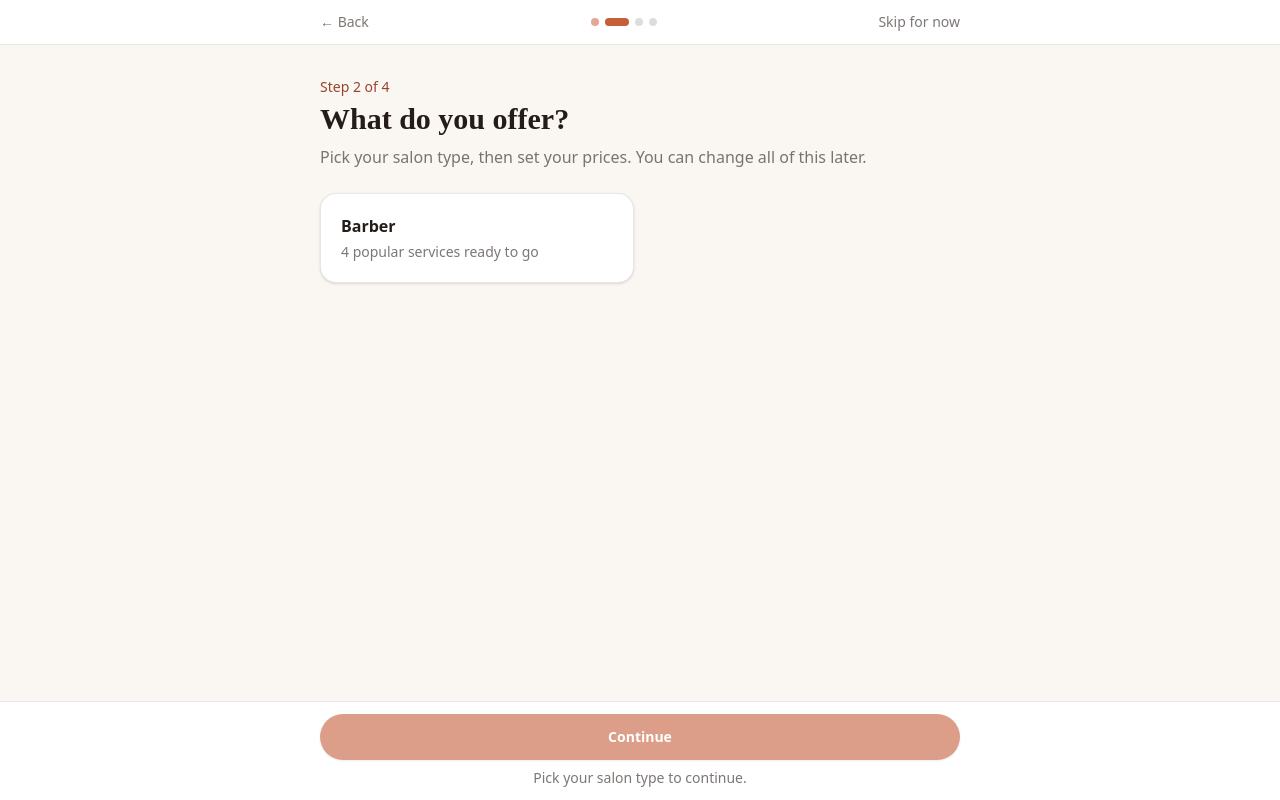
Test: StepServices › highlights only the row a 422 blames, translating the posted index back through the full row list
Step 1. Click the button "Barber 4 popular services ready to go" → coordinates (368, 226), box [320,193,634,283]
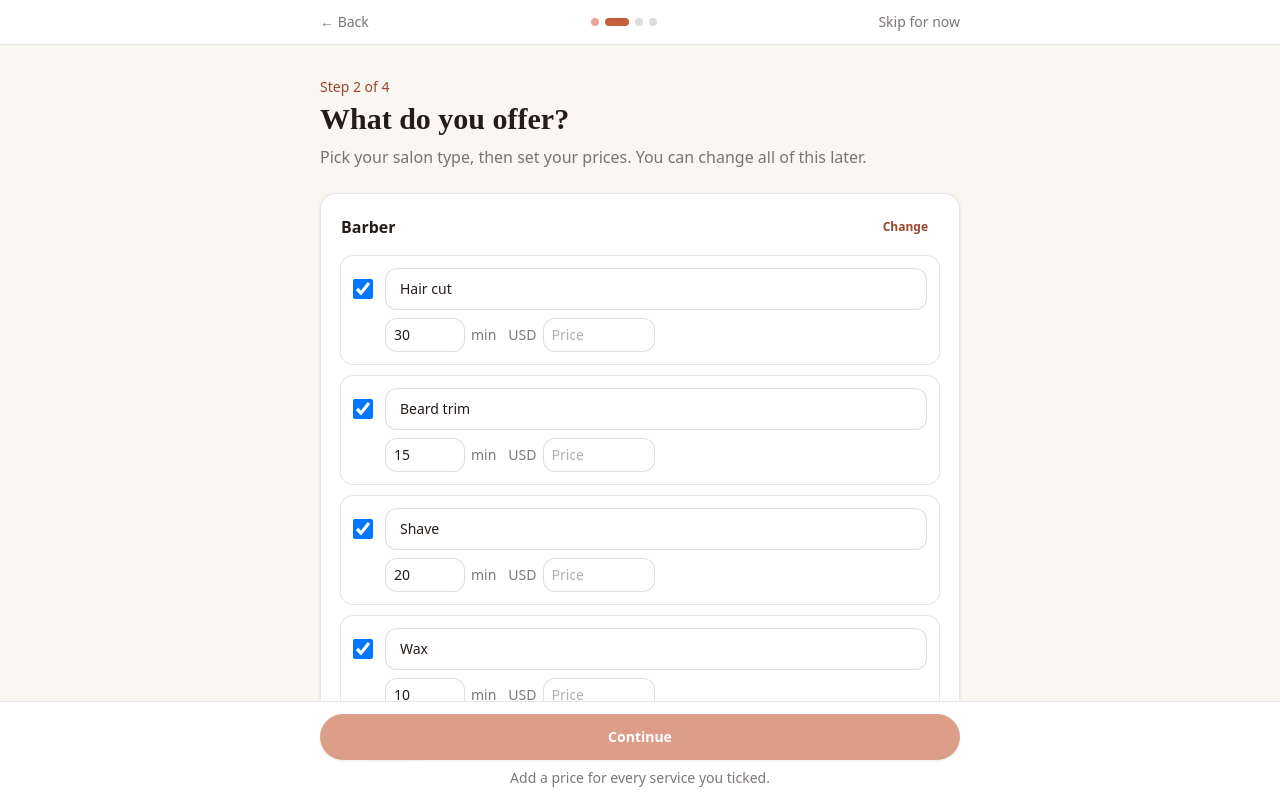
Step 2. Click the 2nd checkbox → coordinates (363, 409), box [353,399,373,419]
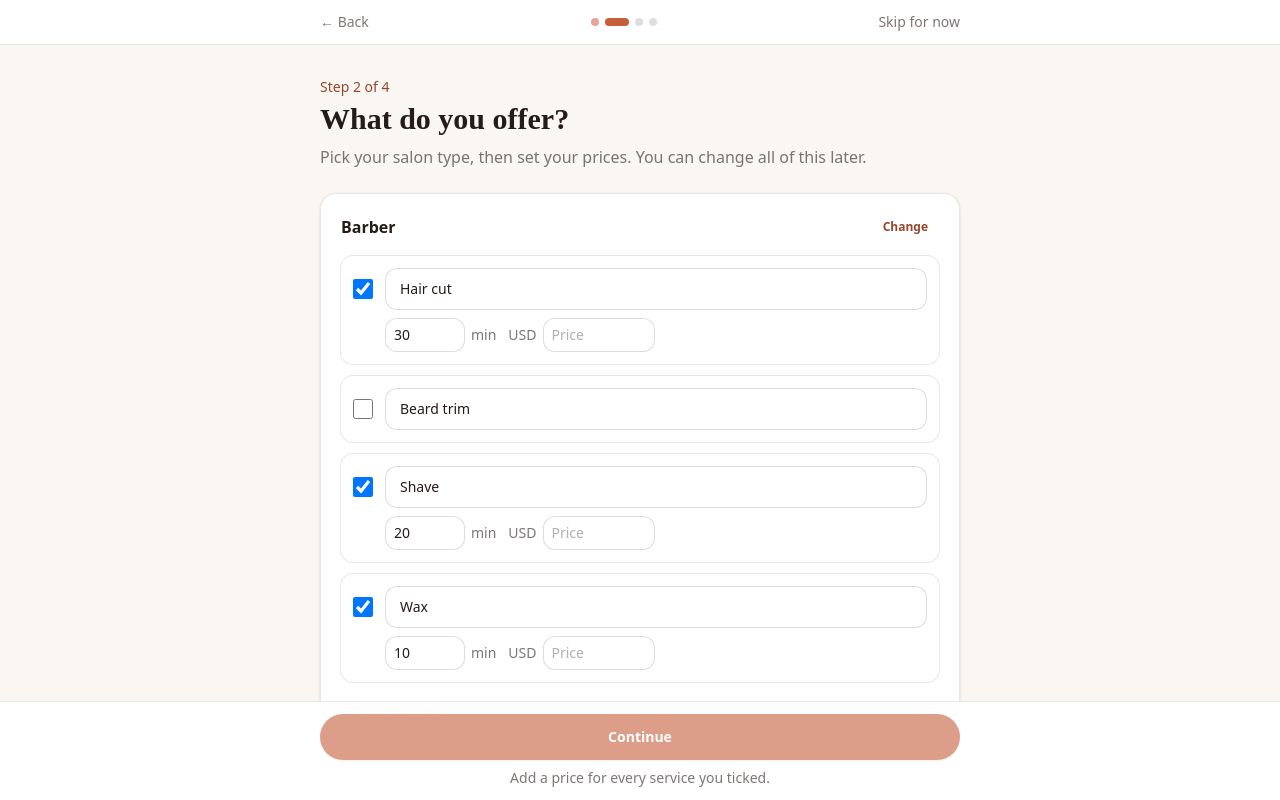
Step 3. Type "12" into the 1st number field with placeholder "Price" → coordinates (598, 335), box [542,318,654,352]
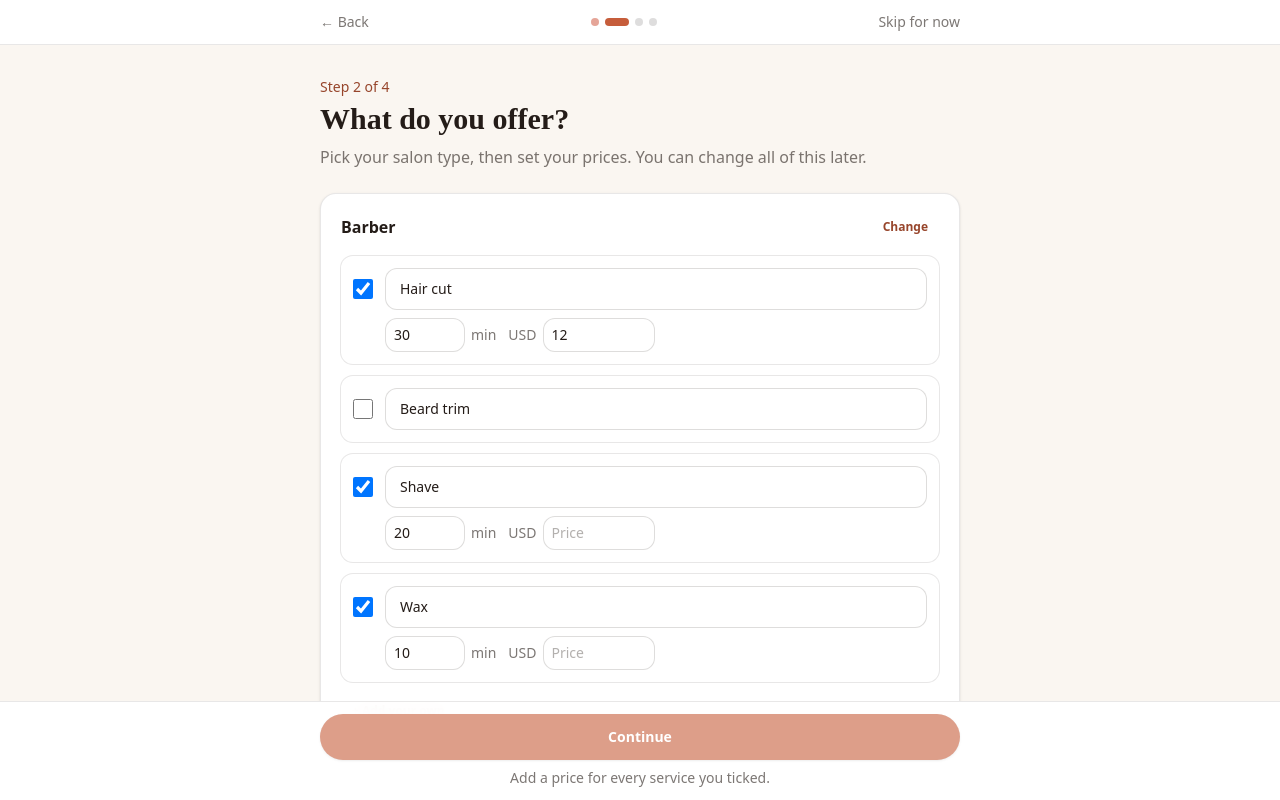
Step 4. Type "9" into the 2nd number field with placeholder "Price" → coordinates (598, 533), box [542,516,654,550]
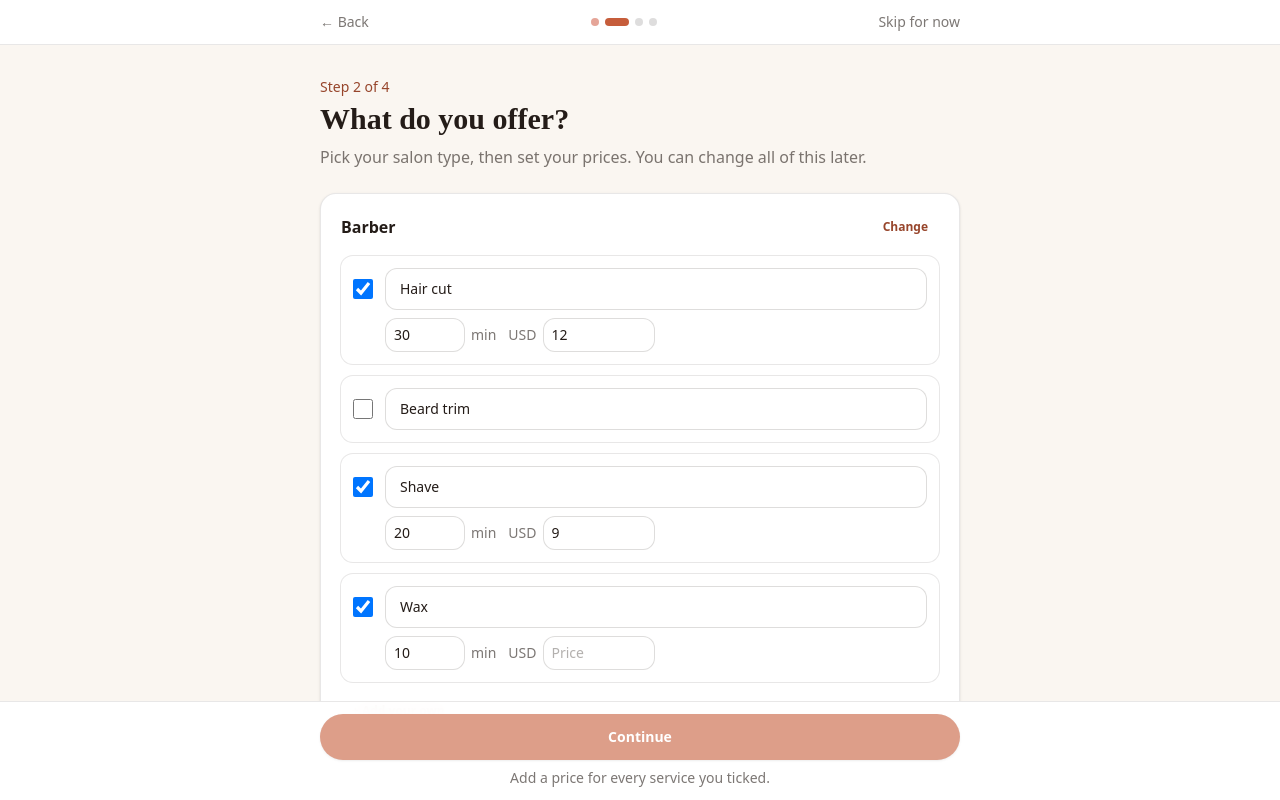
Step 5. Type "8" into the 3rd number field with placeholder "Price" → coordinates (598, 653), box [542,636,654,670]
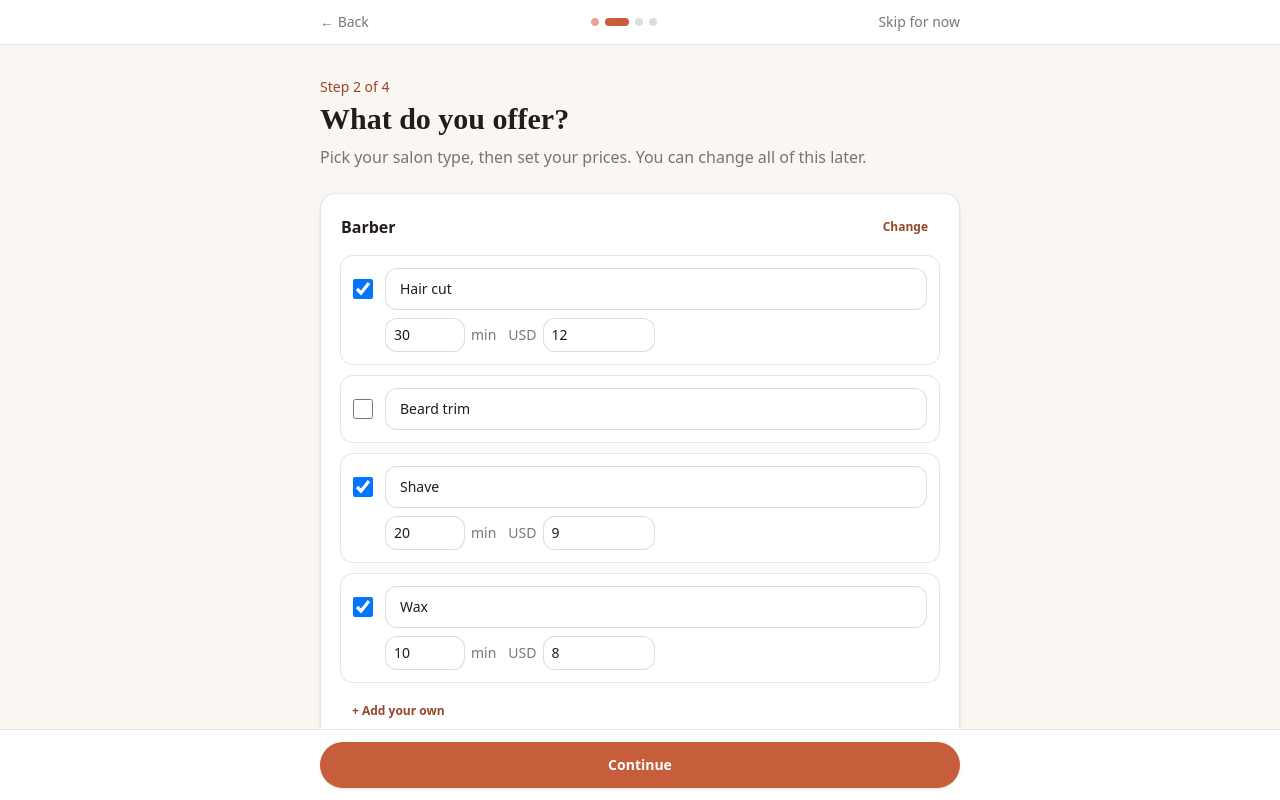
Step 6. Click the button "Continue" → coordinates (640, 765), box [320,742,960,788]
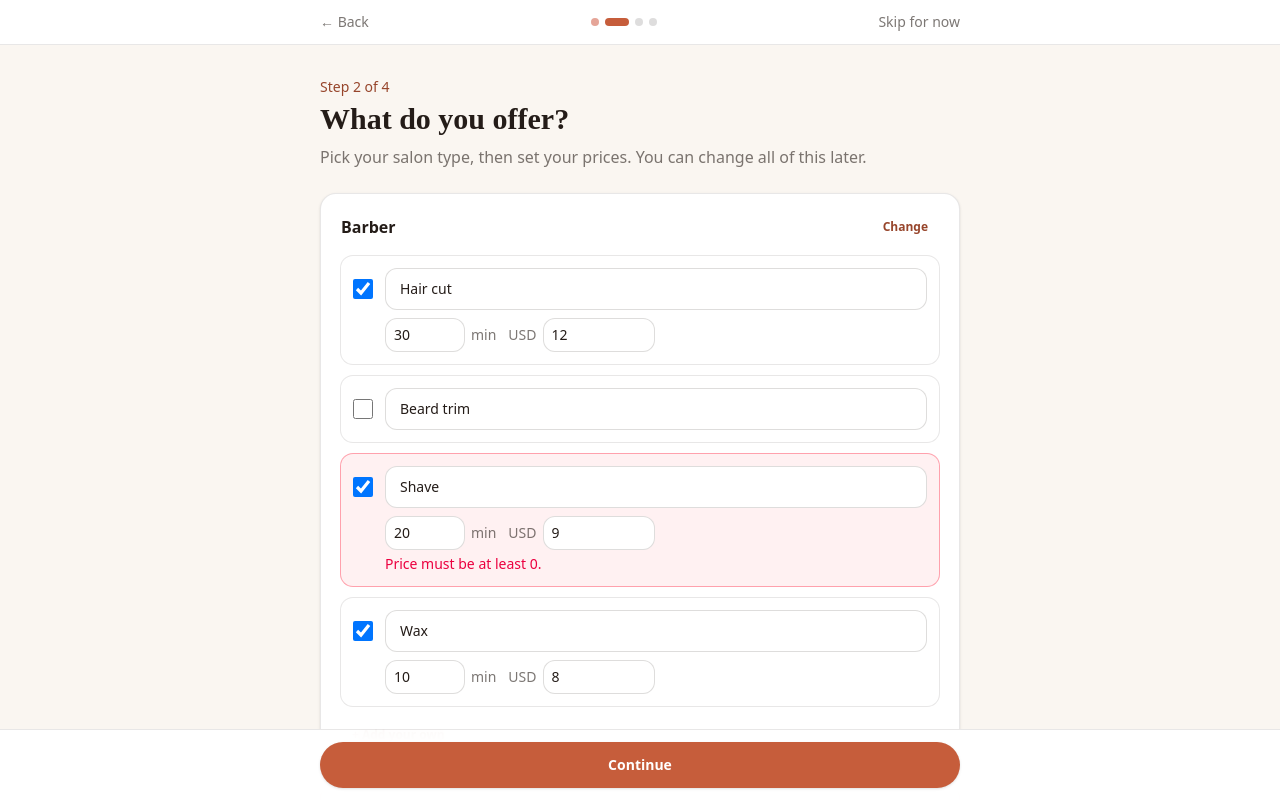
Expected: the list item does not show "Price must be at least 0."
Expected: the list item "min USD Price must be at least 0." is shown, [341,454,939,586]
